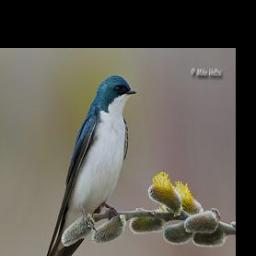Swallow: (40, 74, 137, 256)
